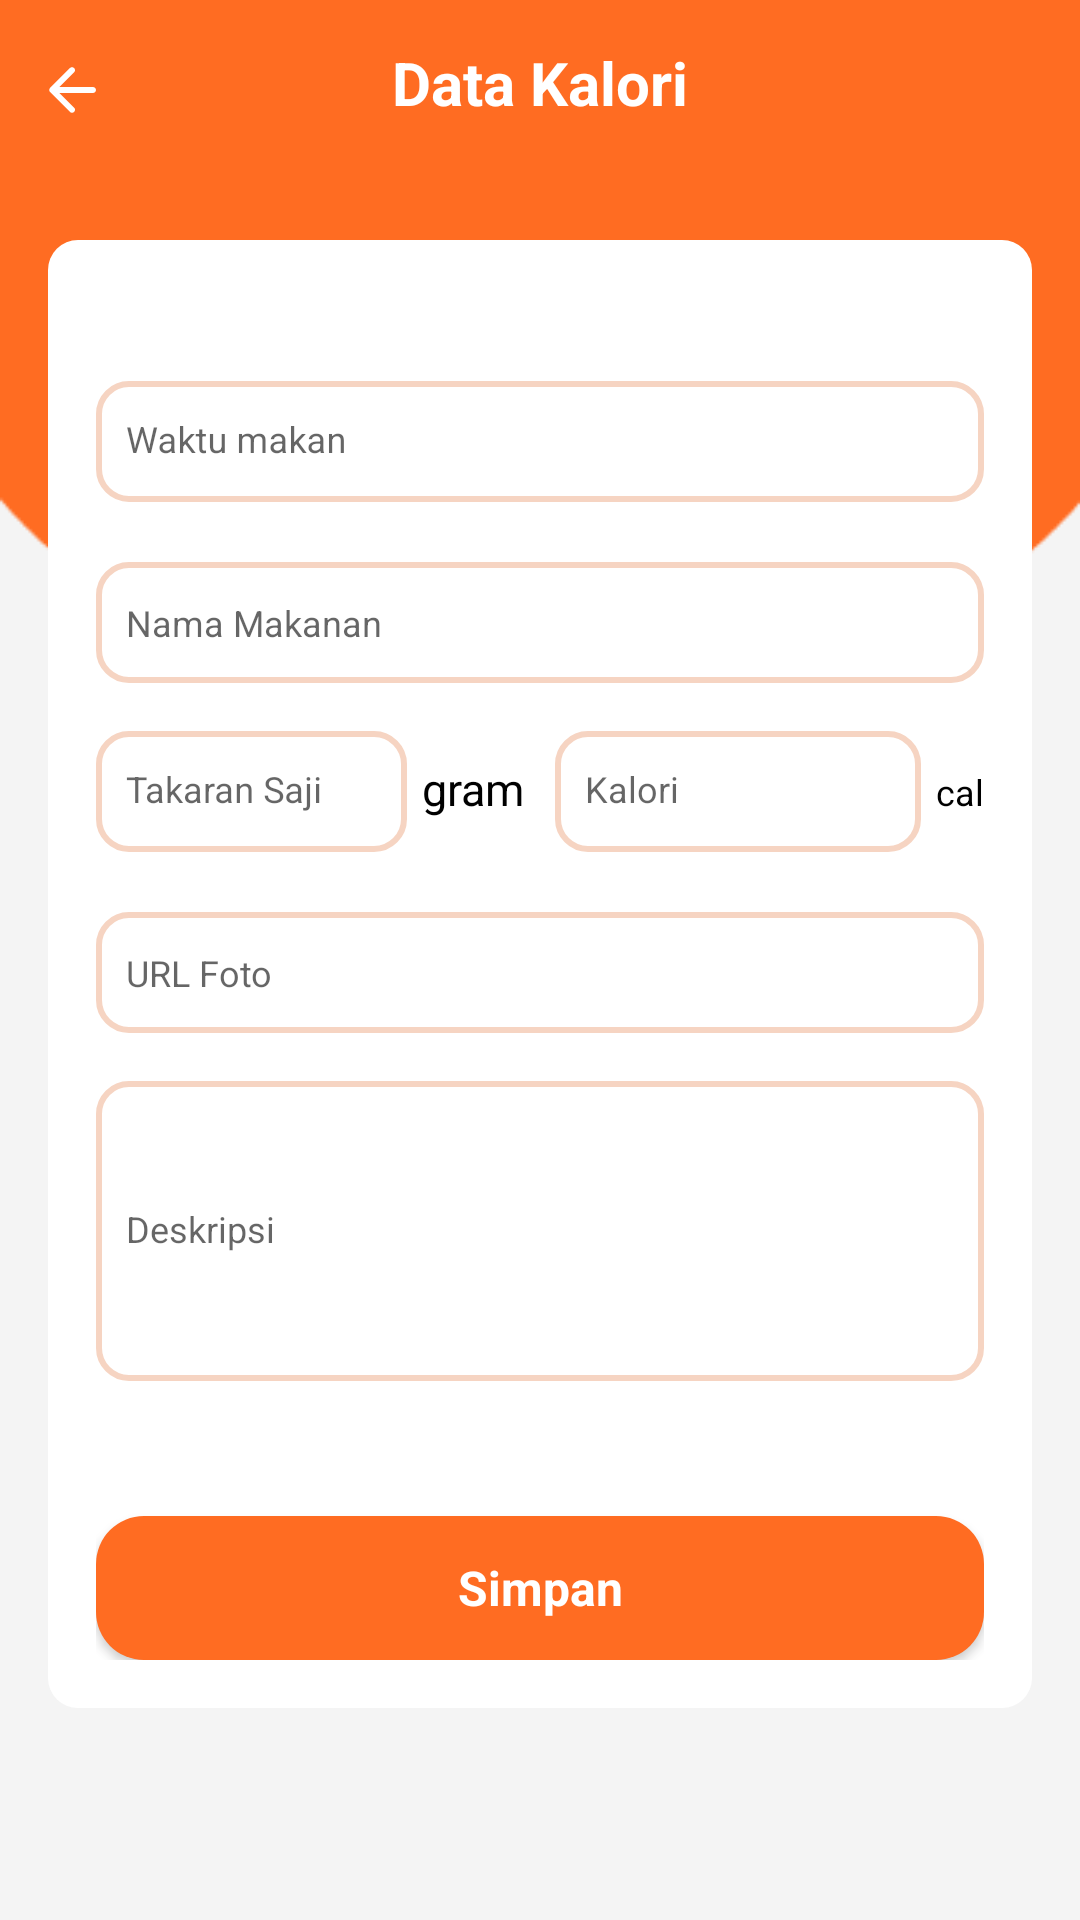

Icons on this 1080w x 1920h Android screen, each with its box as (x1, y1, x2, y2):
back: (49, 67, 96, 113)
